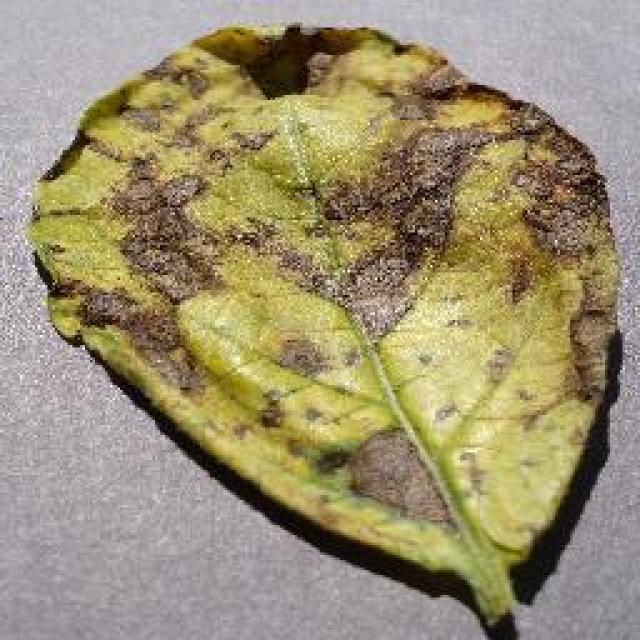early_blight: (23, 18, 625, 632)
